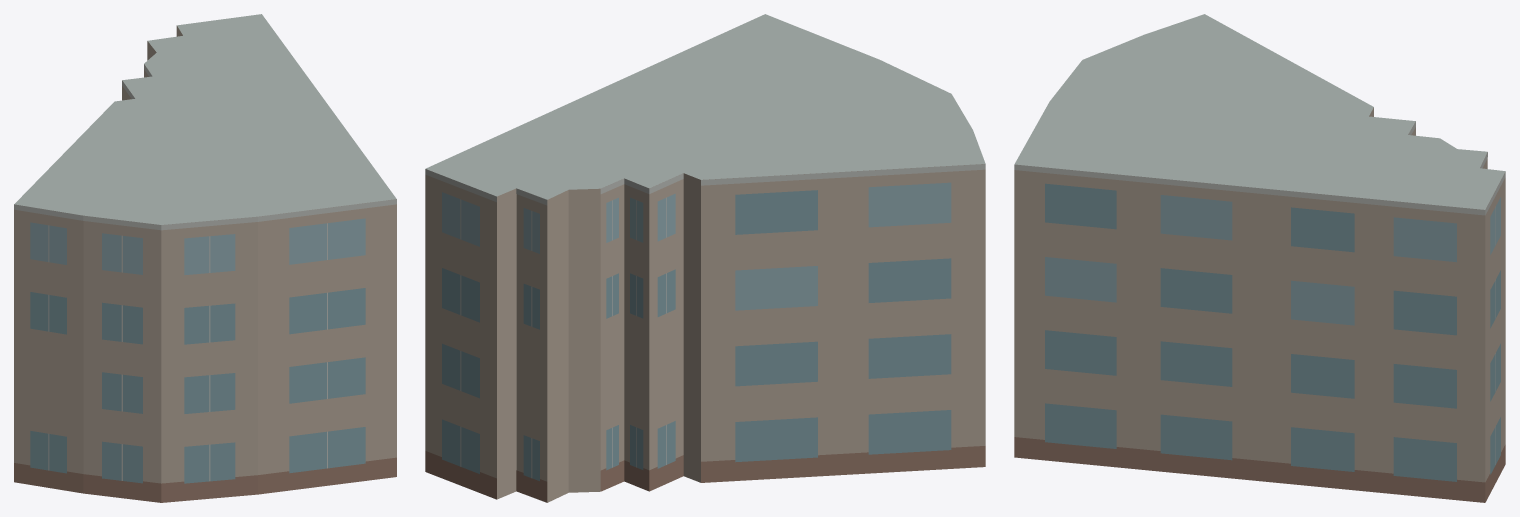
Rendered from survey-upis-33045885.glb.
The picture shows the model from 3 angles, left to right: view 1: azimuth 30°, elevation 25°; view 2: azimuth 150°, elevation 25°; view 3: azimuth 270°, elevation 25°; orthographic projection. The views are drawn at different scales.
Visible parts, largest first — view 1: survey-upis-33045885.tmp; view 2: survey-upis-33045885.tmp; view 3: survey-upis-33045885.tmp.
Part boxes in pixels (<box>): survey-upis-33045885.tmp: <box>14,14,396,502</box>; survey-upis-33045885.tmp: <box>425,14,985,502</box>; survey-upis-33045885.tmp: <box>1014,14,1505,502</box>.
Bounding box in the file's own units: 18.4 × 12.82 × 19.5.
